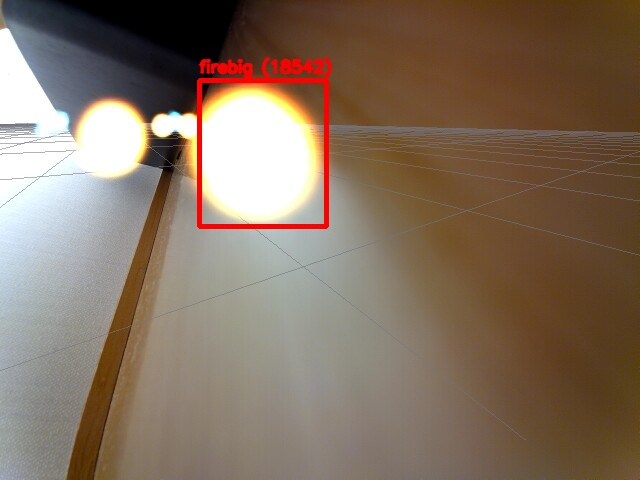firebig: (199, 80, 326, 226)
